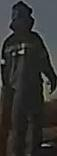gloves: (46, 74, 57, 96)
vest: (0, 32, 45, 92)
